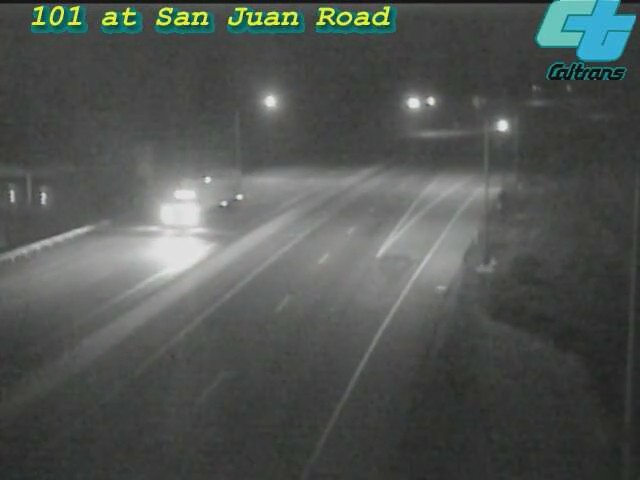vehicle: (165, 158, 245, 238), (473, 102, 523, 152)
